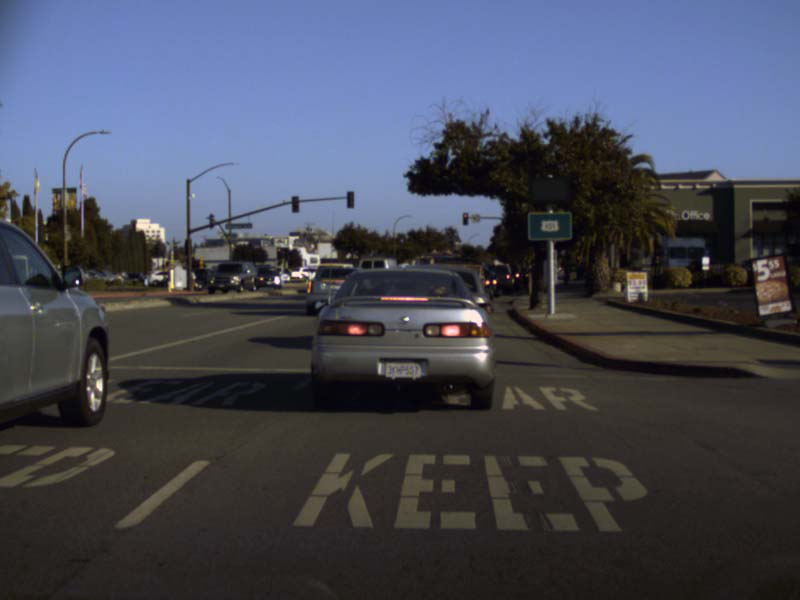Red: (462, 212, 467, 225), (277, 247, 281, 258)
